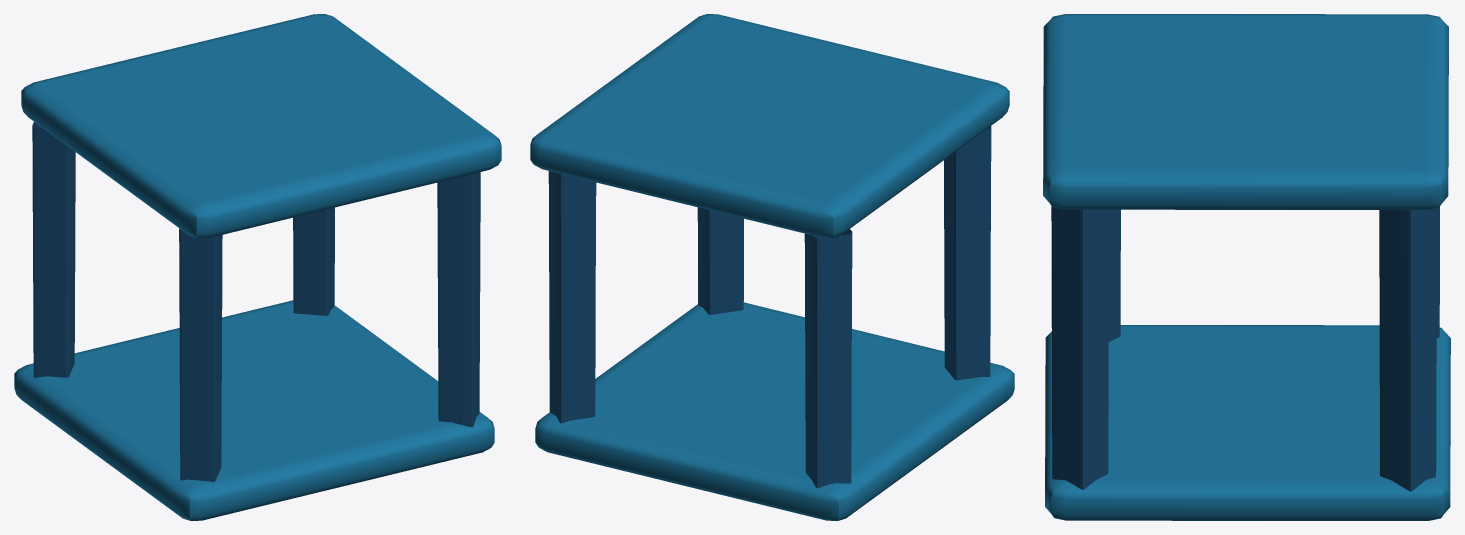
The model's file is SM_Y_05_F_A_Par_03.fbx.
The picture shows the model from 3 angles, left to right: view 1: azimuth 30°, elevation 25°; view 2: azimuth 150°, elevation 25°; view 3: azimuth 270°, elevation 25°; orthographic projection. The views are drawn at different scales.
Visible parts, largest first — view 1: SM_Y_05_F_A_Par_03; view 2: SM_Y_05_F_A_Par_03; view 3: SM_Y_05_F_A_Par_03.
Boxes of the visible parts, left/top/right/bottom form: SM_Y_05_F_A_Par_03: left=14, top=14, right=501, bottom=520; SM_Y_05_F_A_Par_03: left=530, top=14, right=1014, bottom=520; SM_Y_05_F_A_Par_03: left=1043, top=14, right=1450, bottom=520.
Size of the model in its own units: 366 by 343 by 361.
